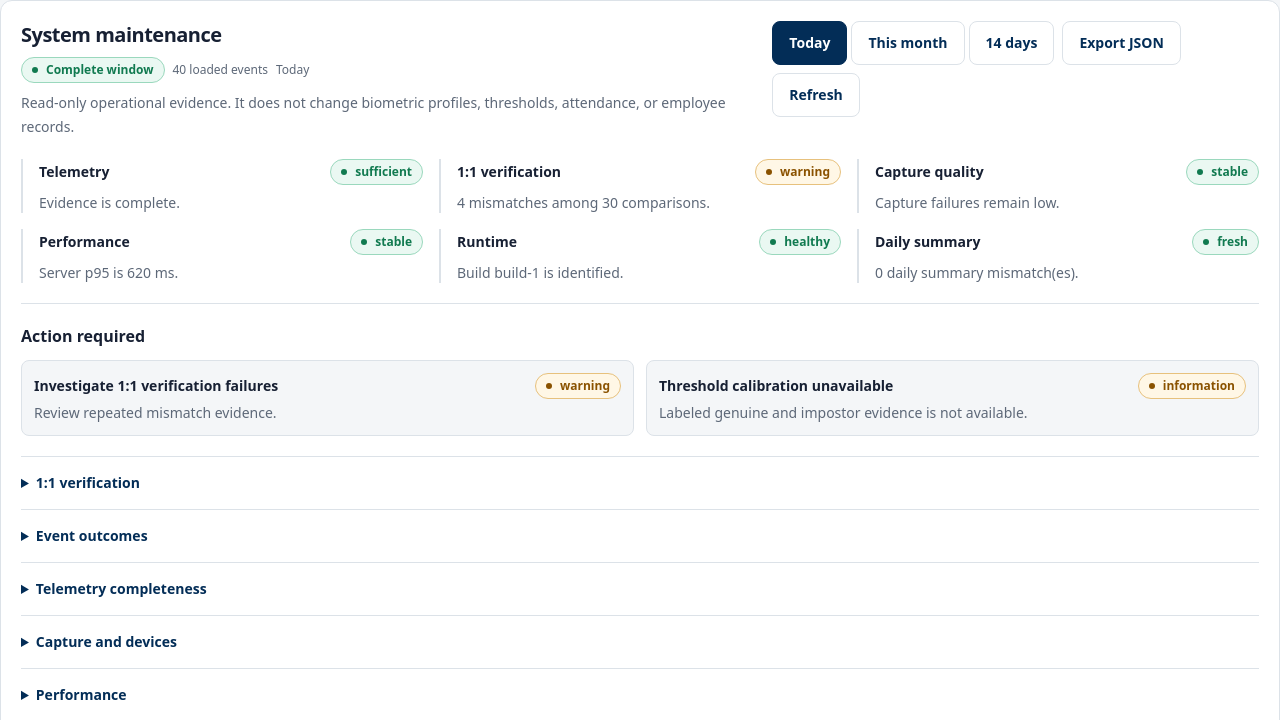
admin employee operations › keeps last successful maintenance evidence when refresh fails
The image size is (1280, 720).
Expected: the text "40 loaded events" is shown, [172,62,268,78]
Click the button "Refresh".
click(816, 95)  # box [772,73,860,117]
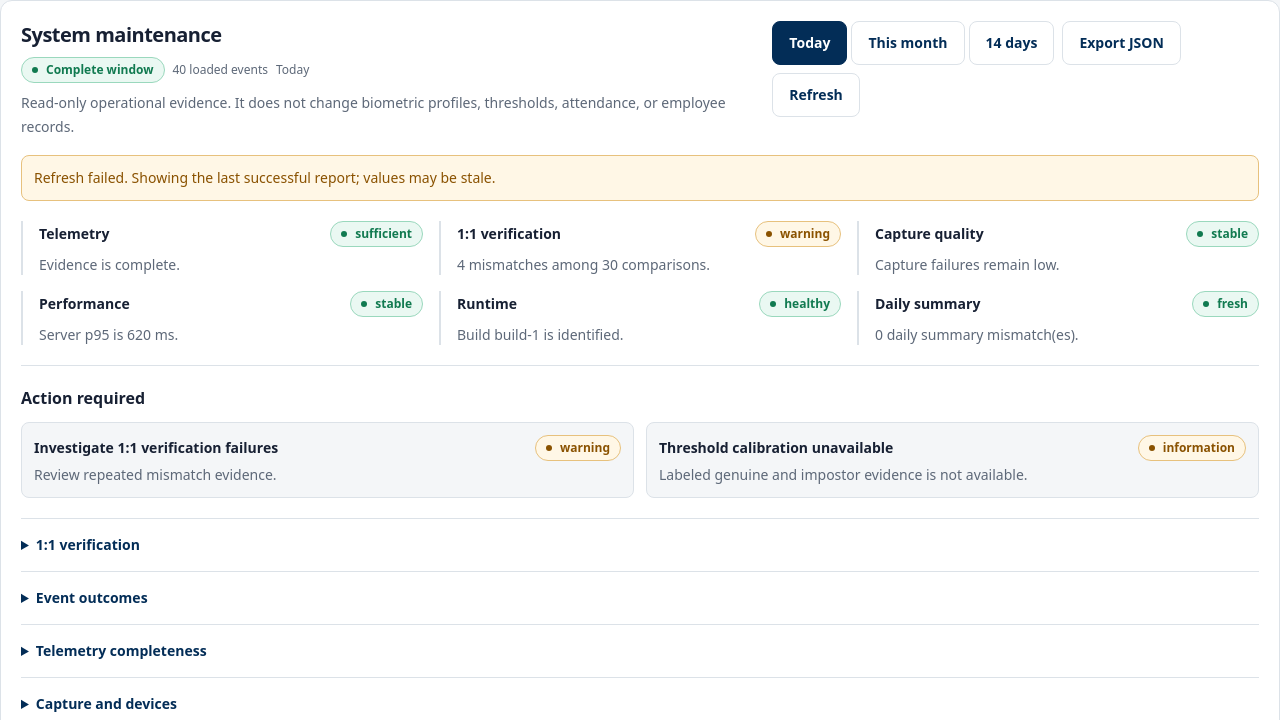
Expected: the text "40 loaded events" is shown, [172,62,268,78]
Result: the text "Refresh failed. Showing the last successful report; values may be stale." is shown at [21,155,1259,201]
